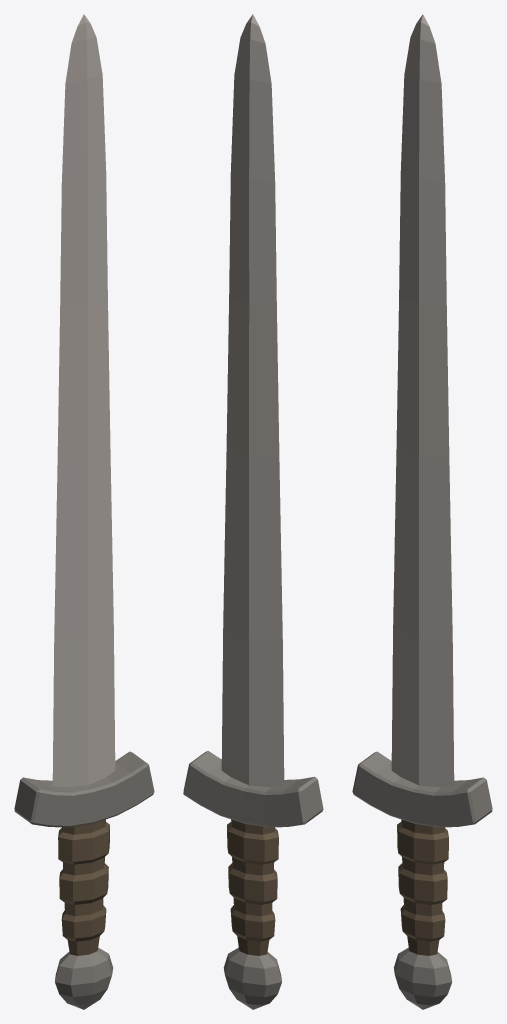
The model's file is SM_pwe_slavic_sword_01.fbx.
The picture shows the model from 3 angles, left to right: view 1: azimuth 30°, elevation 25°; view 2: azimuth 150°, elevation 25°; view 3: azimuth 330°, elevation 25°; orthographic projection.
Parts seen in each view (by area): view 1: SM_pwe_slavic_sword_01; view 2: SM_pwe_slavic_sword_01; view 3: SM_pwe_slavic_sword_01.
Part boxes in pixels (x1,y1,x2,y2): SM_pwe_slavic_sword_01: (14,14,154,1009); SM_pwe_slavic_sword_01: (183,14,323,1009); SM_pwe_slavic_sword_01: (352,14,492,1009).
Size of the model in its own units: 13.73 by 106 by 4.04.
